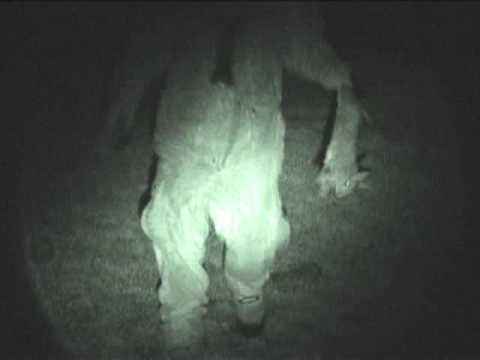person: (151, 9, 286, 336)
rabbit: (329, 92, 372, 221)
